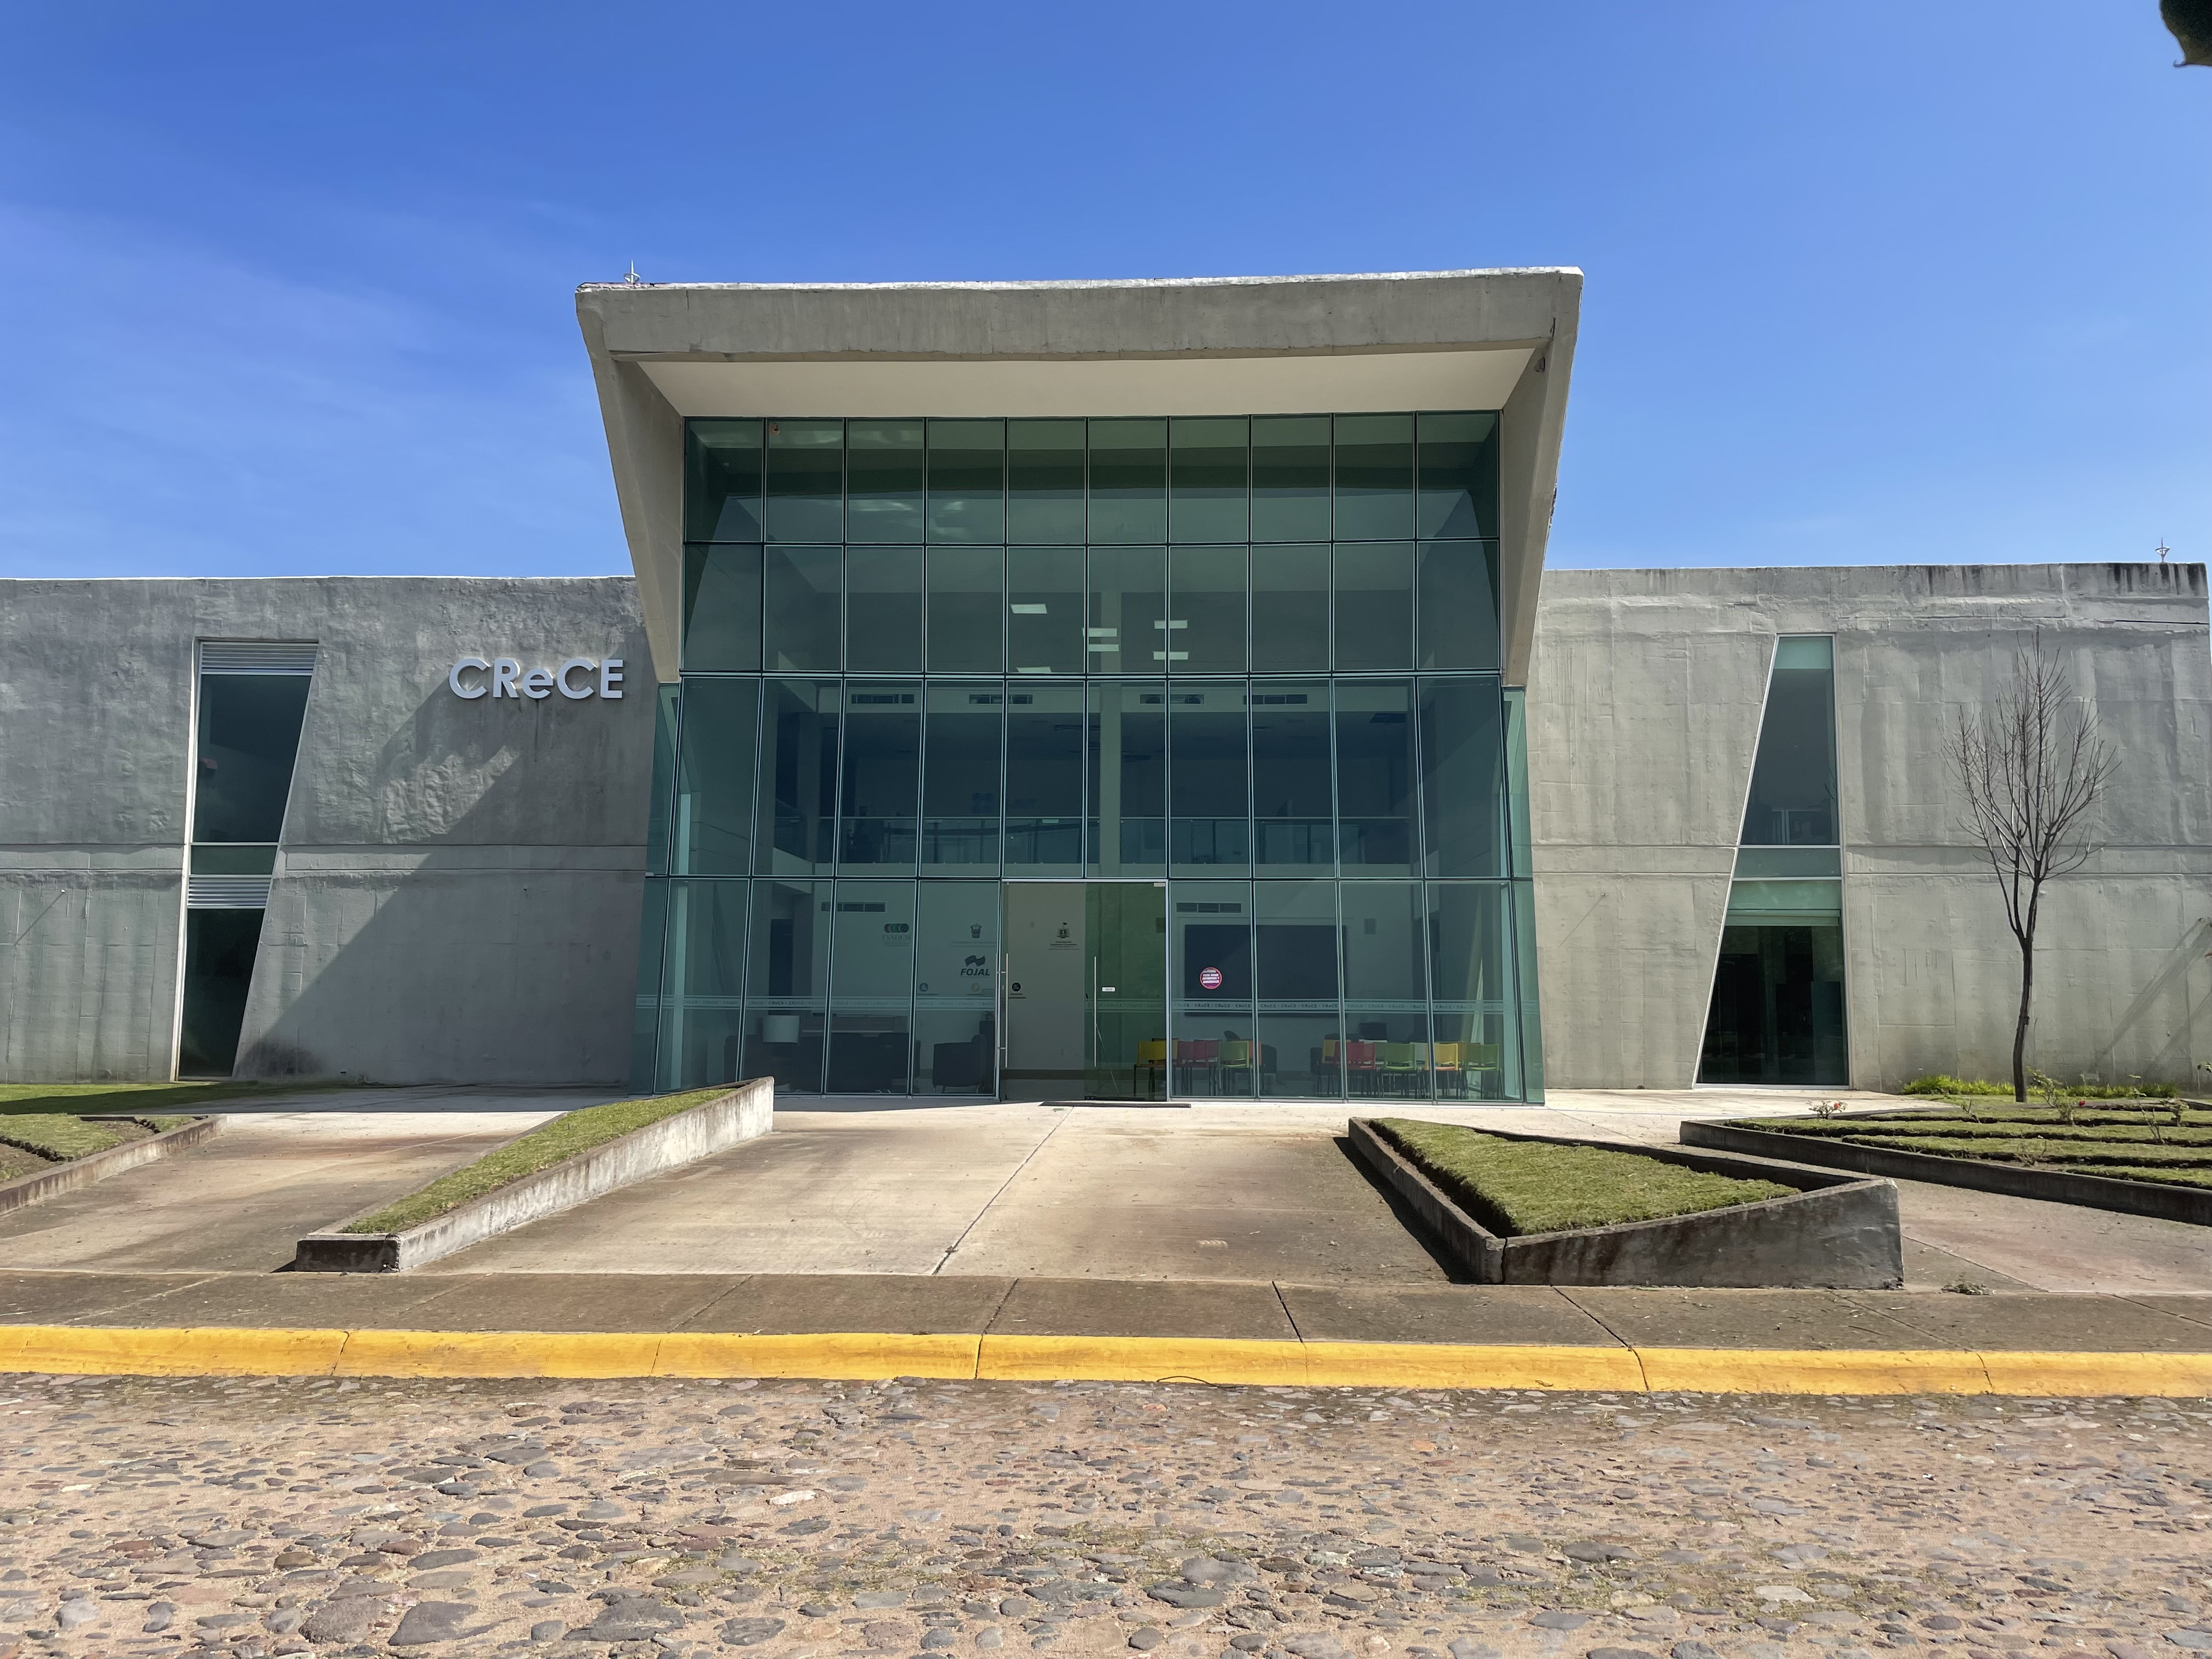crece: (37, 242, 2210, 1180)
